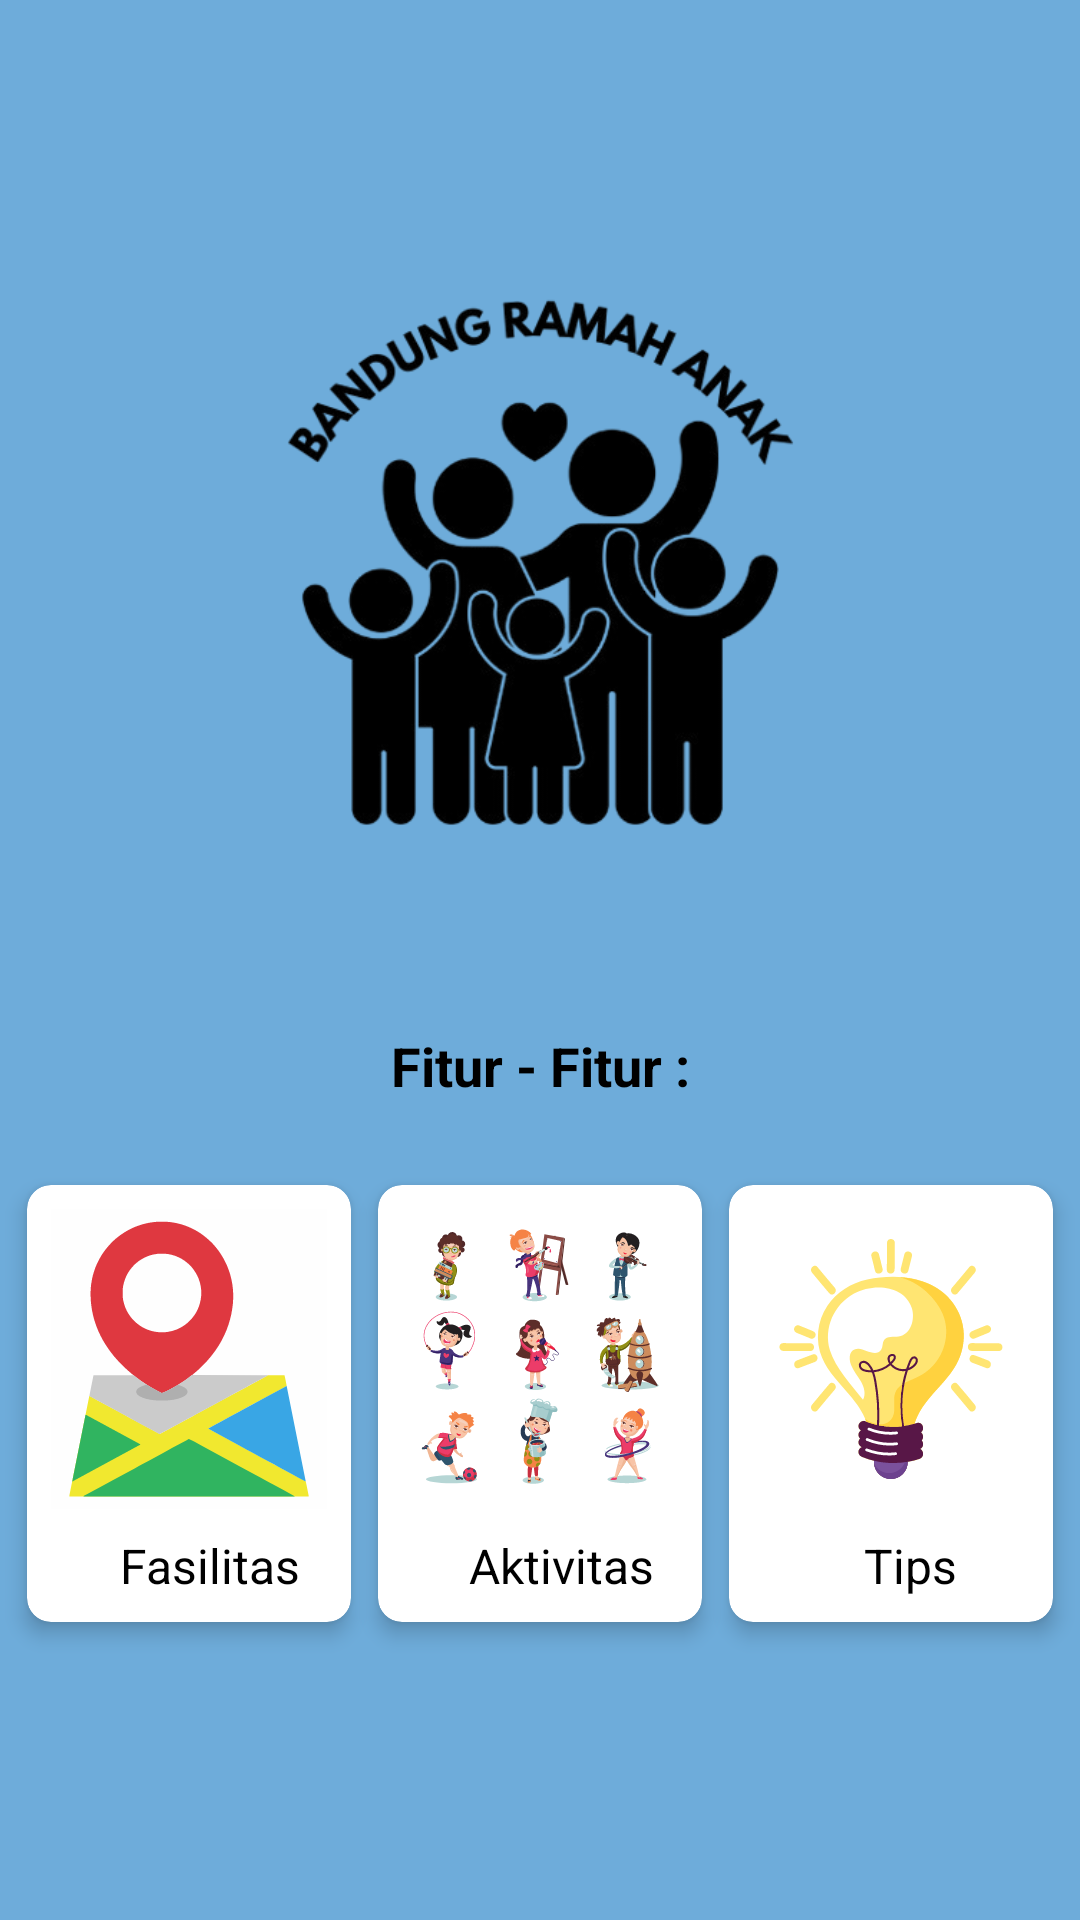

Screen size 1080px x 1920px. Icon name, then its box in pixels as Rect(x1, y1, x2, y2):
lokasi: Rect(69, 1221, 309, 1497)
